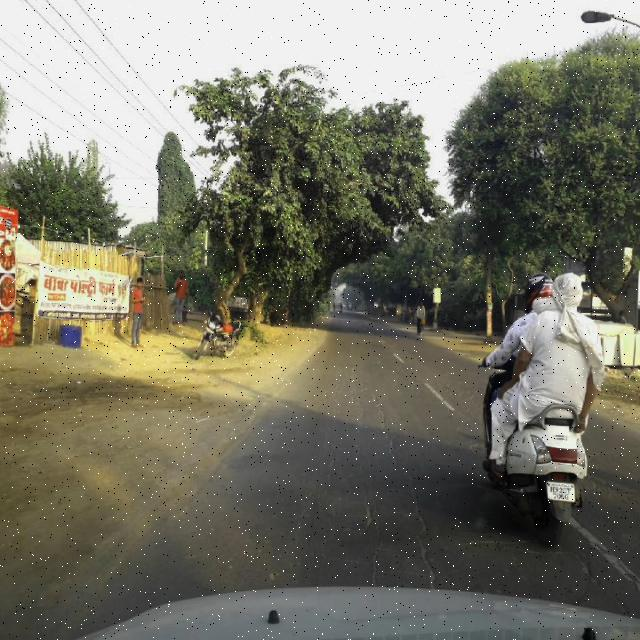D00: (322, 359, 441, 587)
